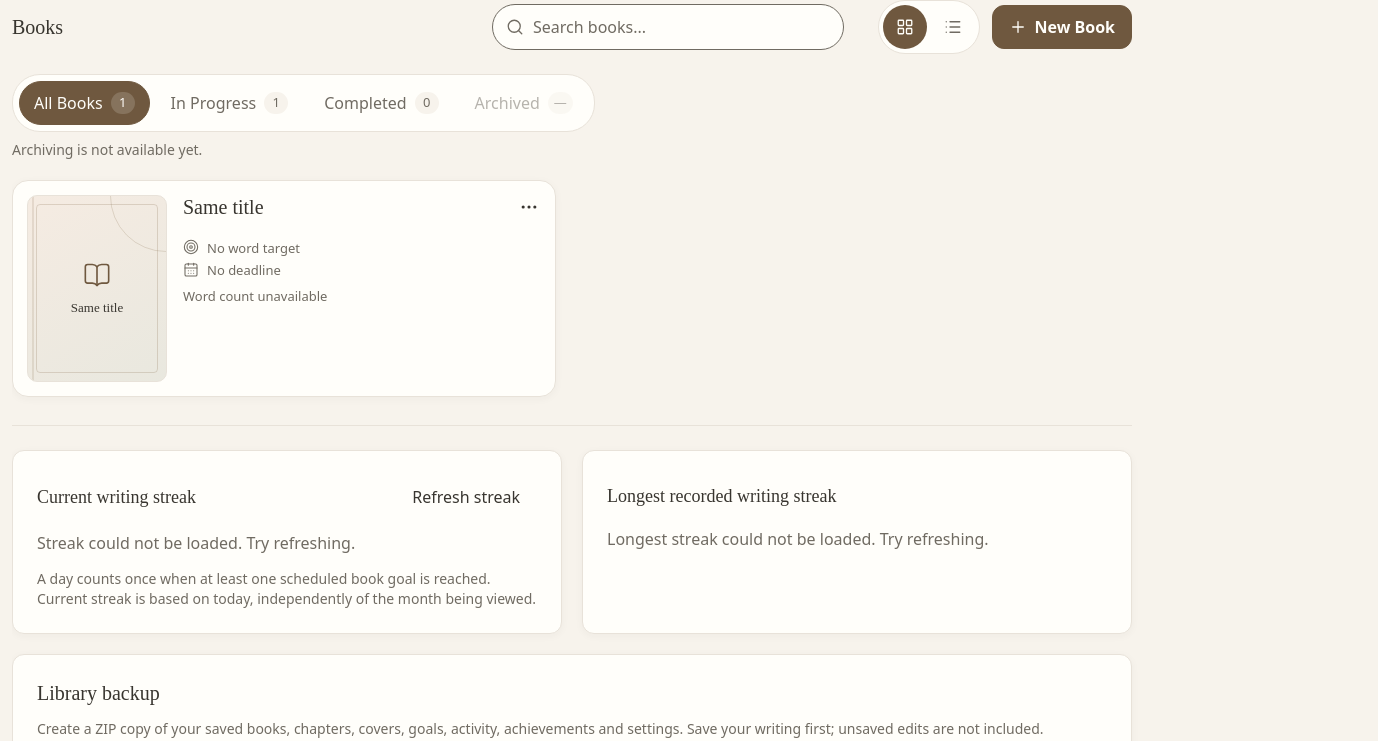
Test case: an empty completed filter retains counts and offers a way back to all books
The width and height of the screenshot is (1378, 741).
Click the button with aria-label "Completed 0 books" at [381, 103], box [309,81,454,125]
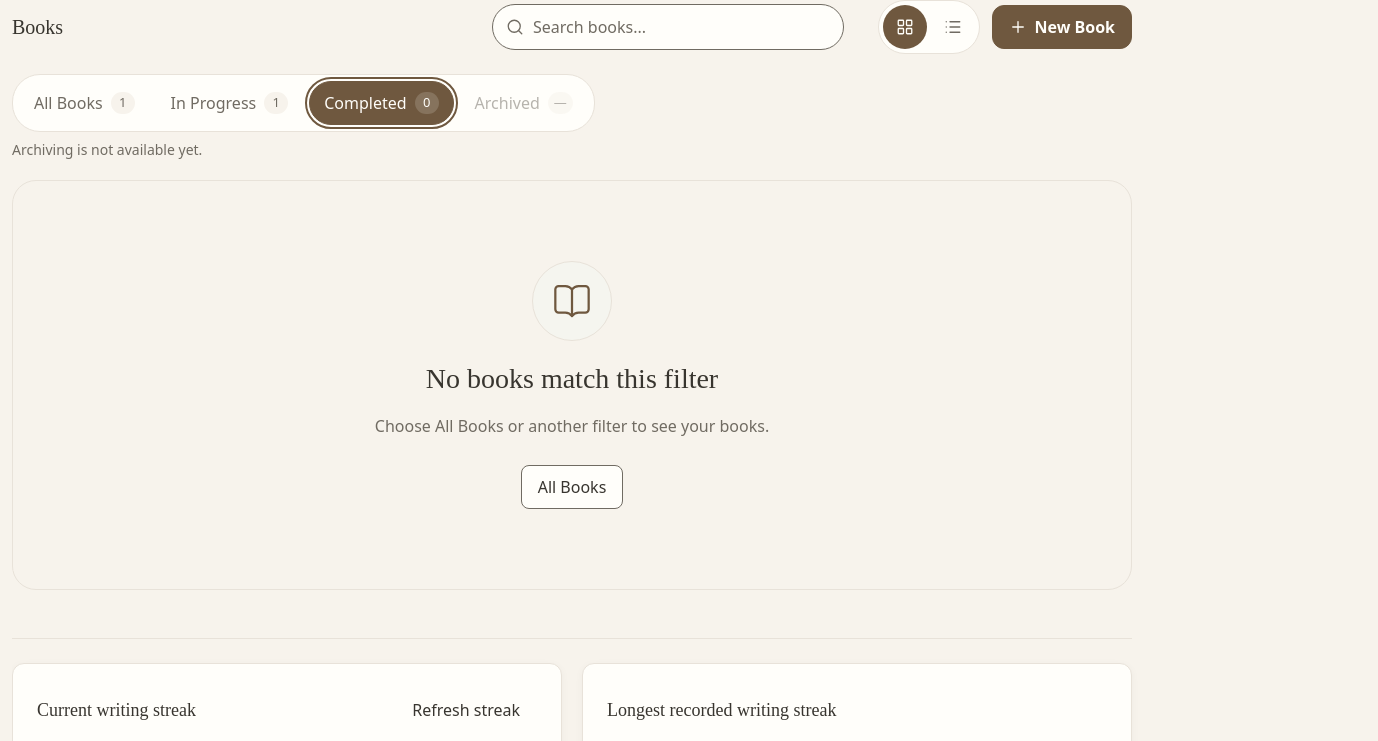
Expected: the heading "No books match this filter" is shown, [426,361,718,397]
Click the button with aria-label "All Books 1 book" at [84, 103], box [19,81,150,125]
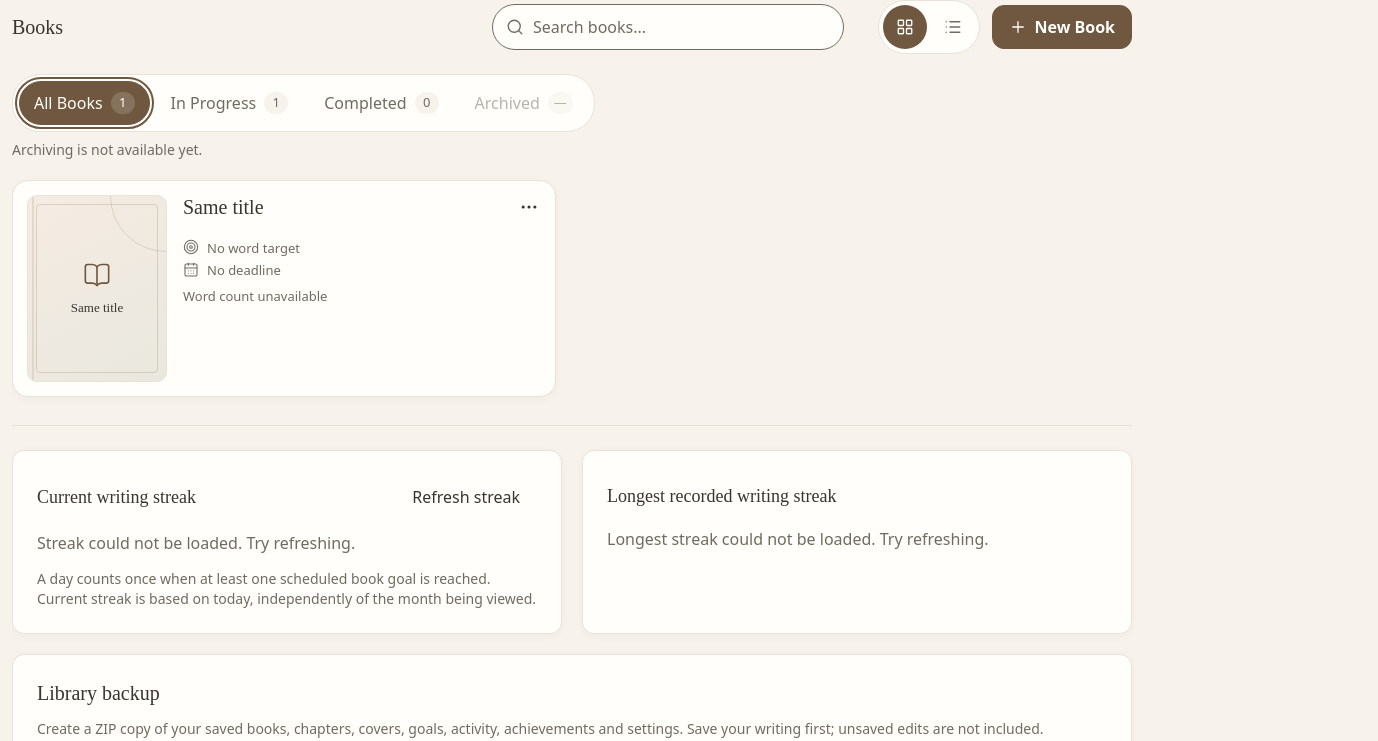
Expected: the heading "Same title" is shown, [183,196,264,218]
